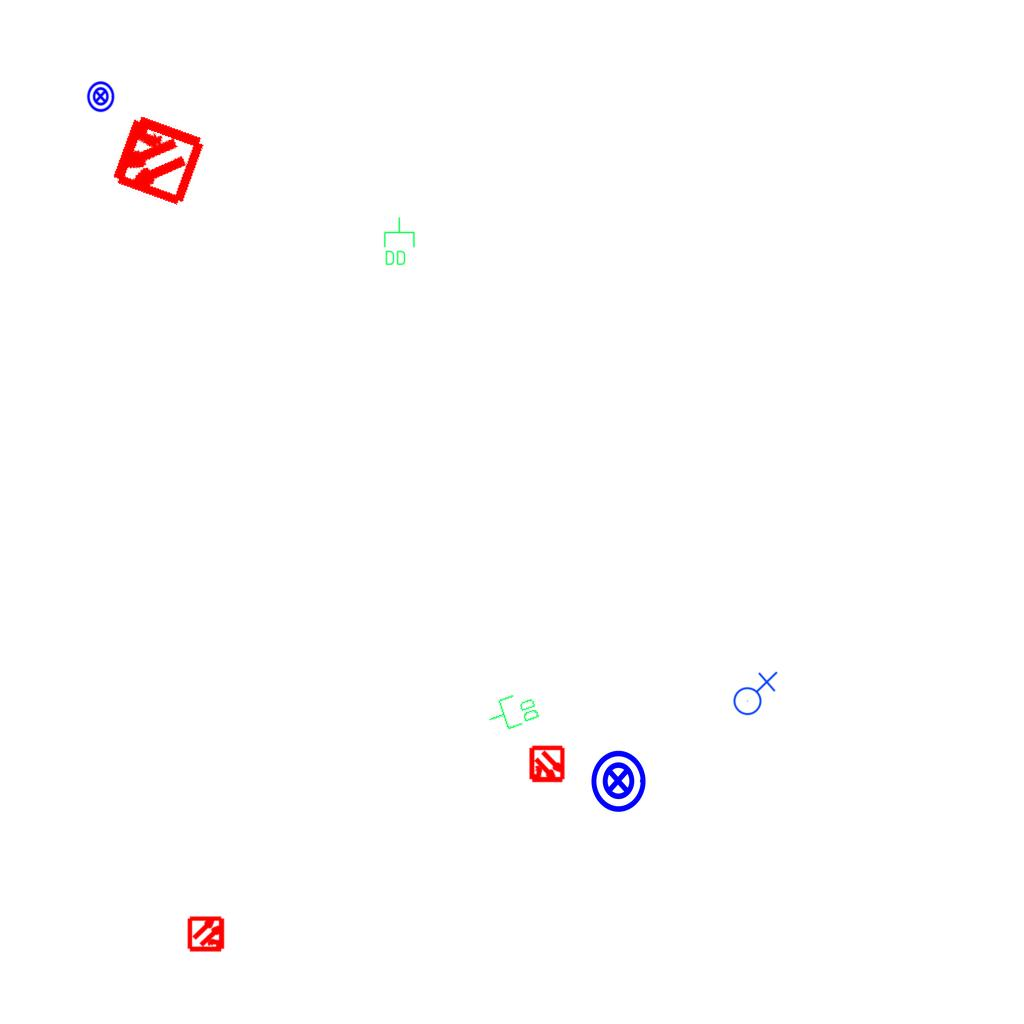Datenanschluss_zweifach: (482, 687, 543, 737), (382, 216, 416, 267)
Elektroanschluss_allgemein_230V_Geraeteanschlussdose_230V: (729, 669, 778, 716)
OT_Multisensormelder_(Kombination_RMO_WMD): (84, 87, 229, 232), (519, 737, 575, 793), (179, 906, 235, 962)
Taster_beleuchtet: (585, 748, 651, 814), (84, 80, 117, 113)
